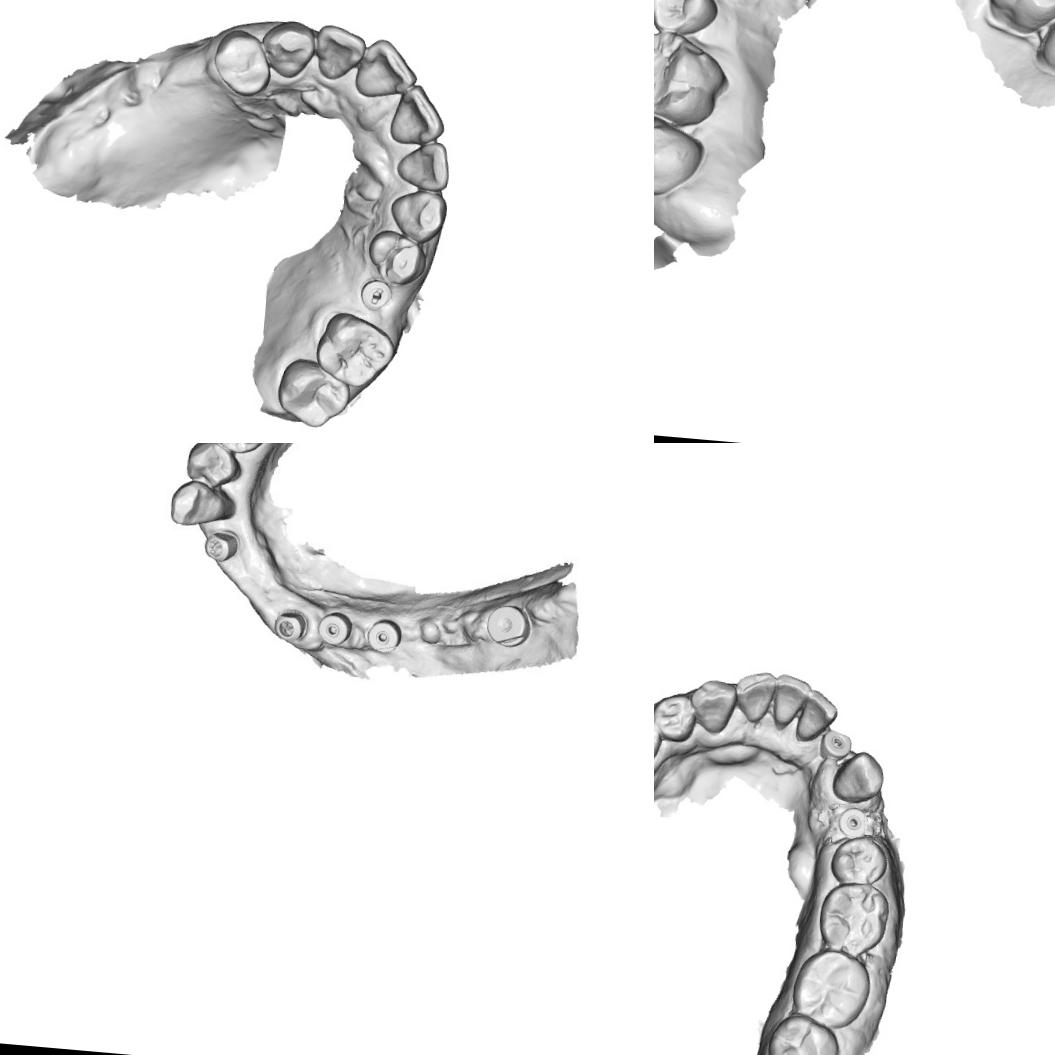canine: (167, 478, 238, 536), (256, 15, 318, 81), (386, 187, 452, 246), (685, 674, 738, 736), (829, 748, 886, 804)
implant: (483, 595, 534, 648), (831, 802, 878, 844), (813, 722, 857, 762), (202, 528, 243, 570), (361, 618, 400, 654), (269, 608, 306, 644), (317, 610, 352, 648)
implant_minus: (356, 272, 396, 313)
incisor: (350, 34, 420, 102), (388, 78, 450, 148), (310, 21, 368, 83), (396, 138, 454, 194), (730, 665, 779, 727), (792, 686, 839, 748), (766, 671, 812, 732)
molar: (786, 946, 875, 1033), (654, 27, 728, 129), (310, 307, 402, 389), (818, 878, 896, 966), (272, 355, 354, 431), (654, 105, 706, 200), (759, 1009, 843, 1055), (982, 0, 1055, 37)
premolar: (206, 26, 274, 103), (364, 224, 431, 288), (828, 834, 893, 891), (654, 0, 724, 38), (182, 443, 239, 486), (654, 690, 698, 745)
